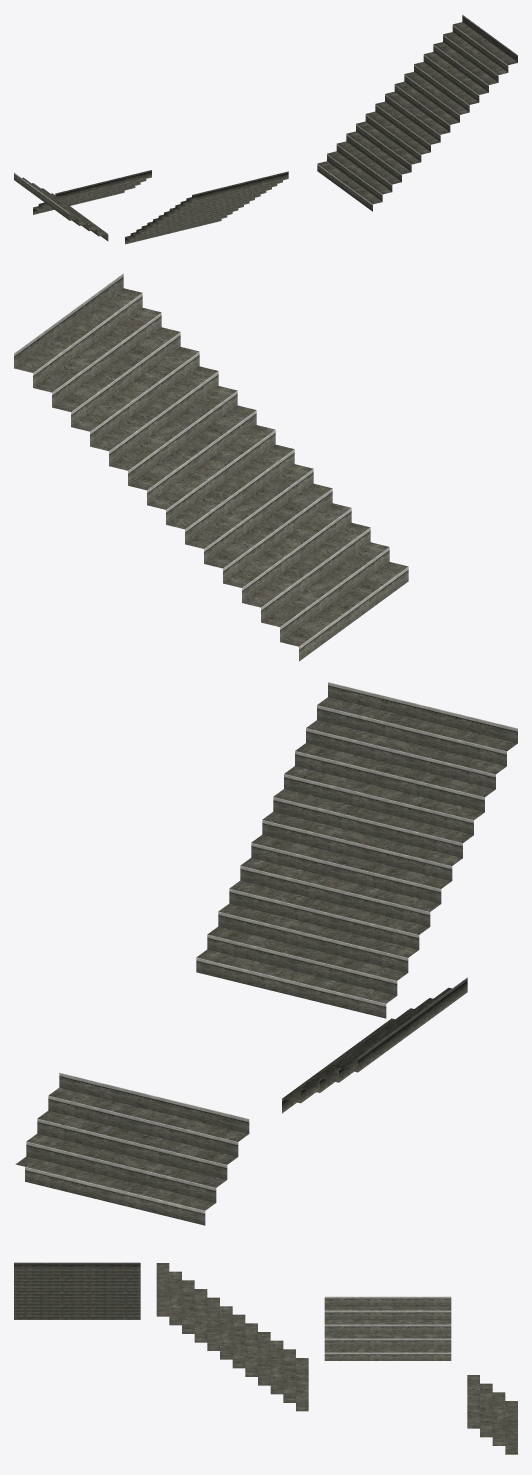
Rendered from DWARF_PALACE_FORGEROOM_STAIRS01.fbx.
3 renders of one model, top to bottom at view 1: azimuth 30°, elevation 25°; view 2: azimuth 150°, elevation 25°; view 3: azimuth 270°, elevation 25°, orthographic. The views are drawn at different scales.
Parts seen in each view (by area): view 1: DWARF_PALACE_FORGEROOM_STAIRS01; view 2: DWARF_PALACE_FORGEROOM_STAIRS01; view 3: DWARF_PALACE_FORGEROOM_STAIRS01.
Part boxes in pixels (box(x1,y1,x2,y2)): DWARF_PALACE_FORGEROOM_STAIRS01: box(14, 15, 517, 244); DWARF_PALACE_FORGEROOM_STAIRS01: box(14, 273, 517, 1225); DWARF_PALACE_FORGEROOM_STAIRS01: box(14, 1262, 517, 1454).
Bounding box in the file's own units: 129000 × 102000 × 159000.
2 materials, 2 textured.
